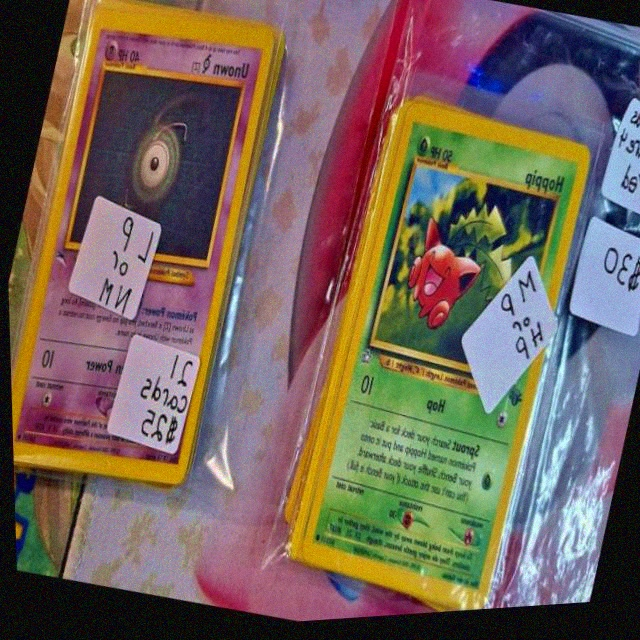card: (298, 106, 590, 616), (9, 7, 273, 487)
